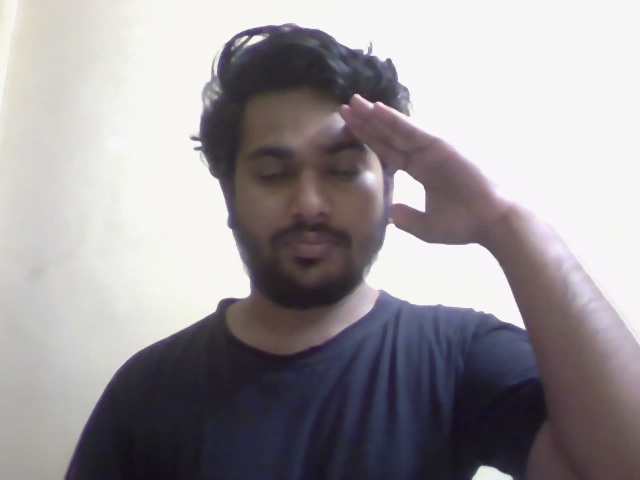hello: (183, 12, 503, 325)
